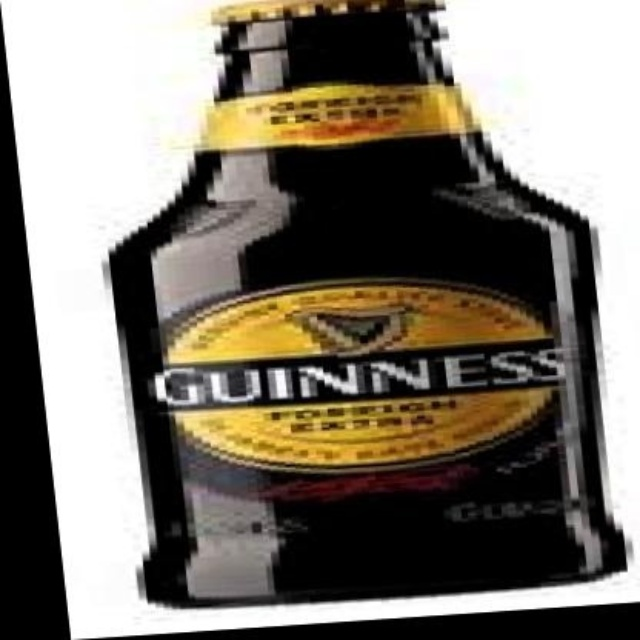trash: (109, 0, 625, 605)
